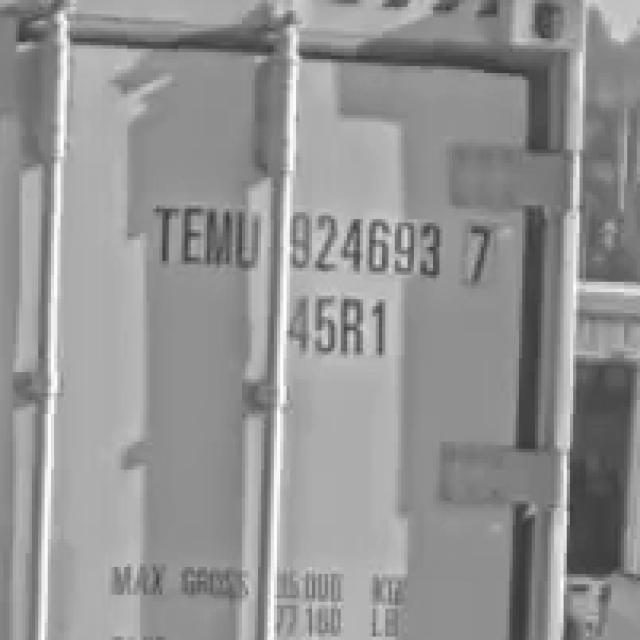dv: (454, 218, 513, 294)
owner: (139, 184, 263, 289)
serial: (278, 194, 454, 281)
size: (271, 291, 391, 367)
